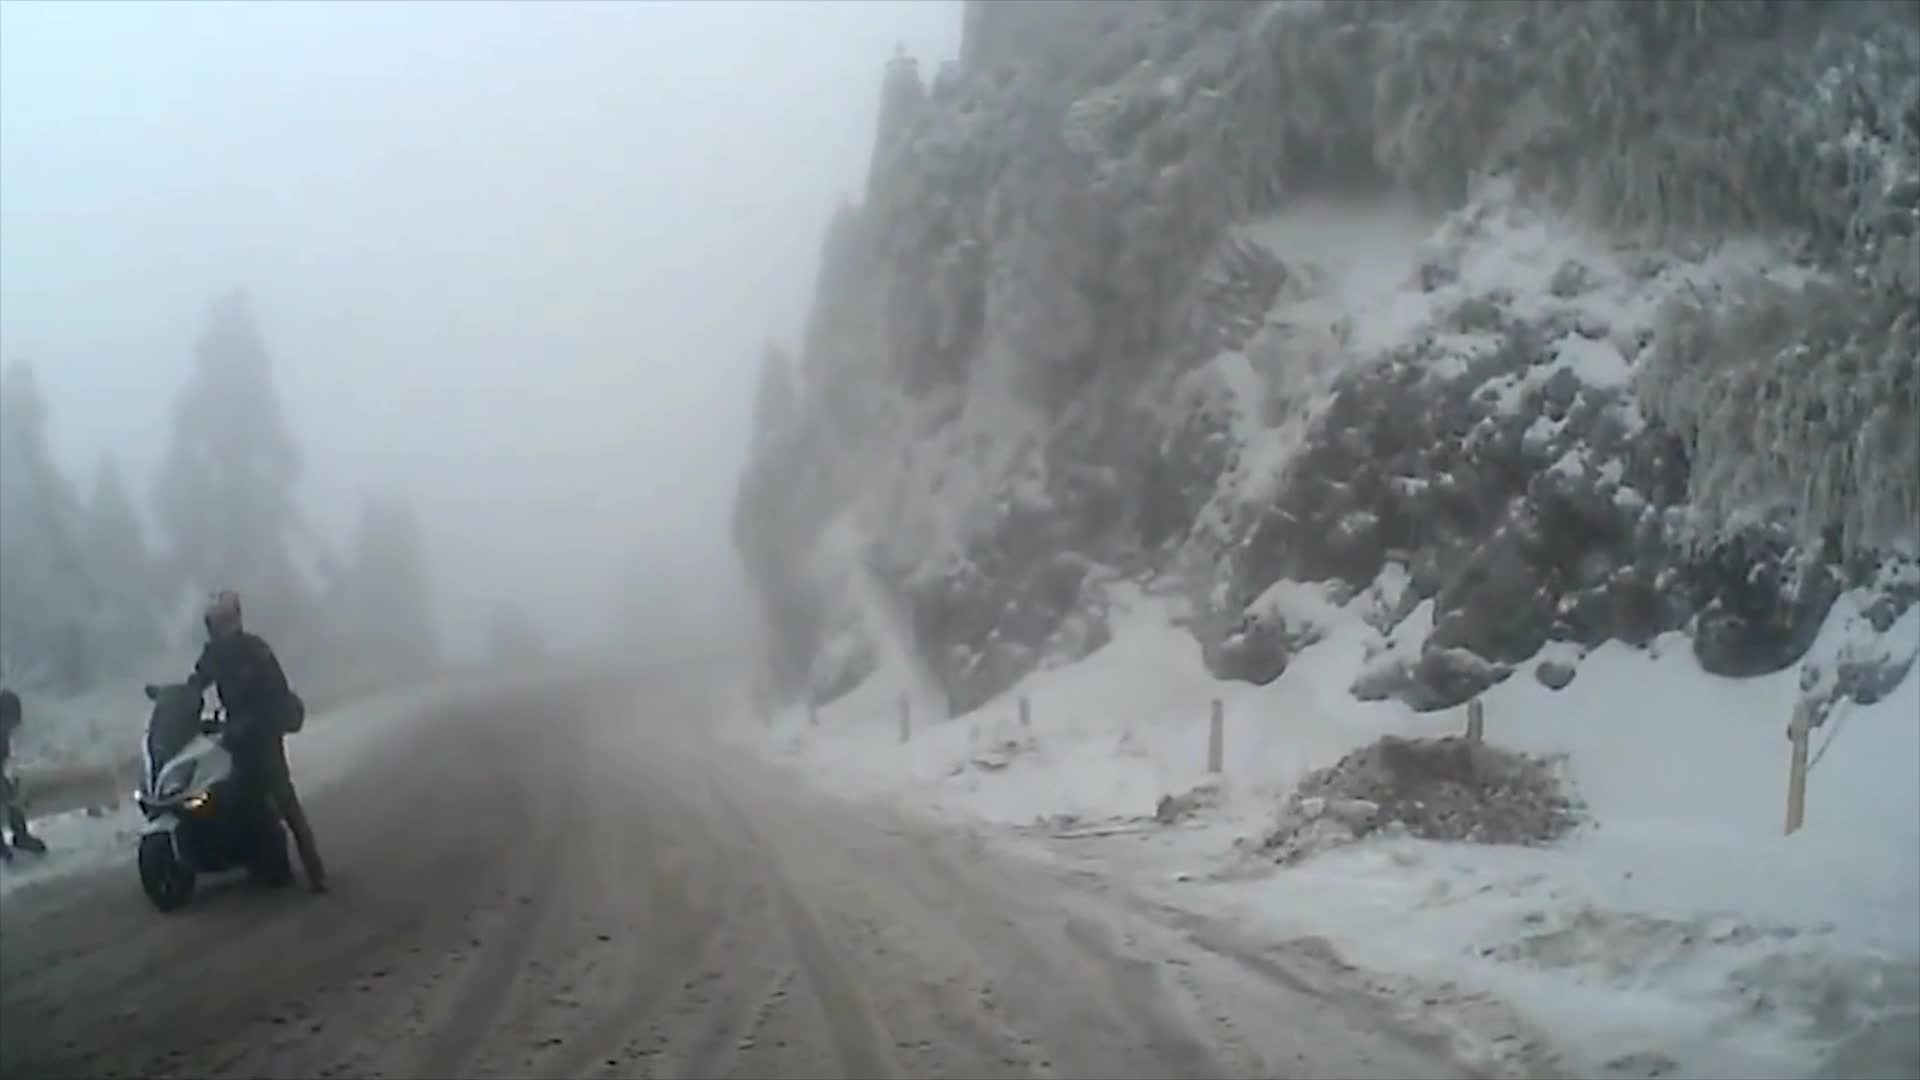pedestrian: (154, 576, 331, 898), (1, 693, 45, 866)
